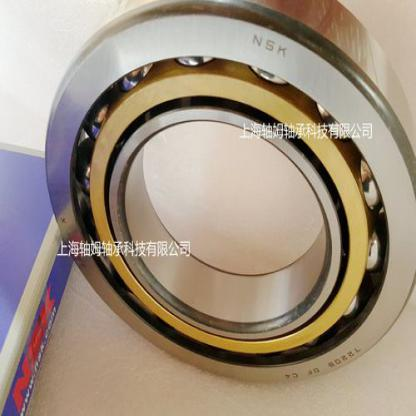FOD: (41, 1, 415, 388)
